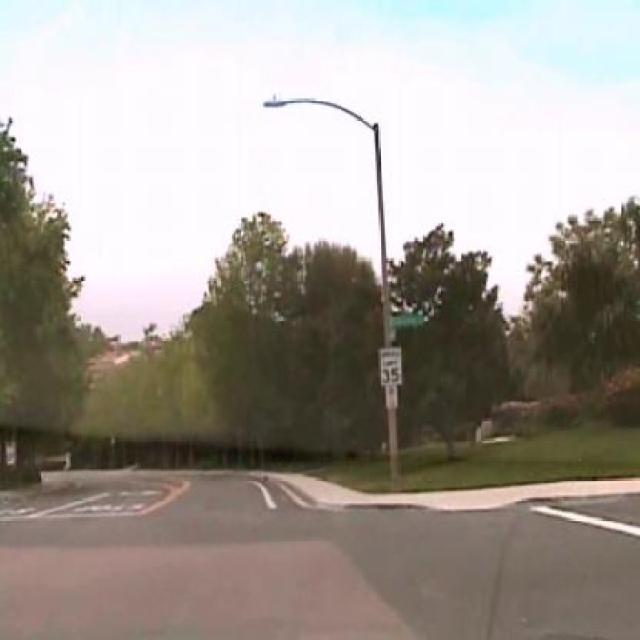speedLimit35: (378, 346, 402, 388)
